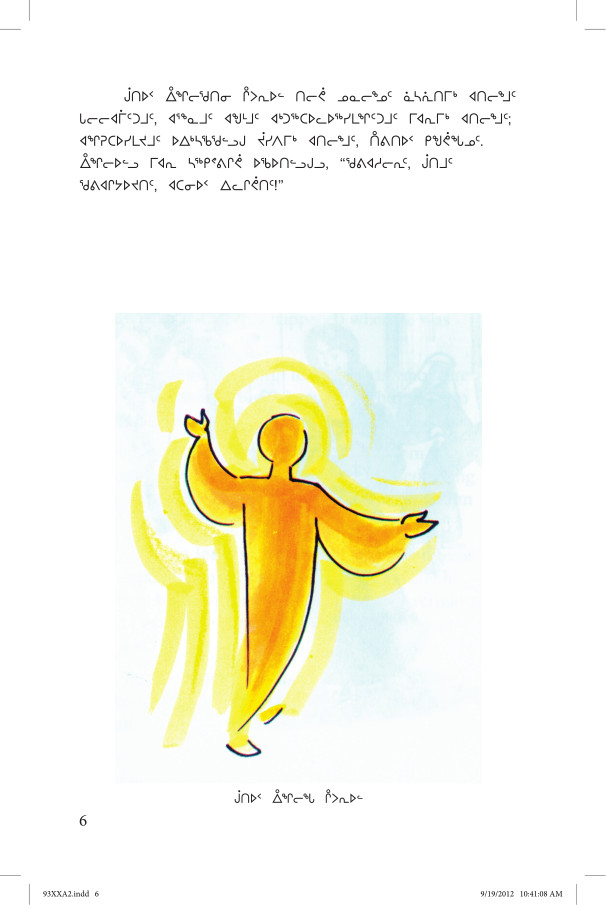inuktitut: (71, 76, 526, 200), (227, 783, 366, 810)
